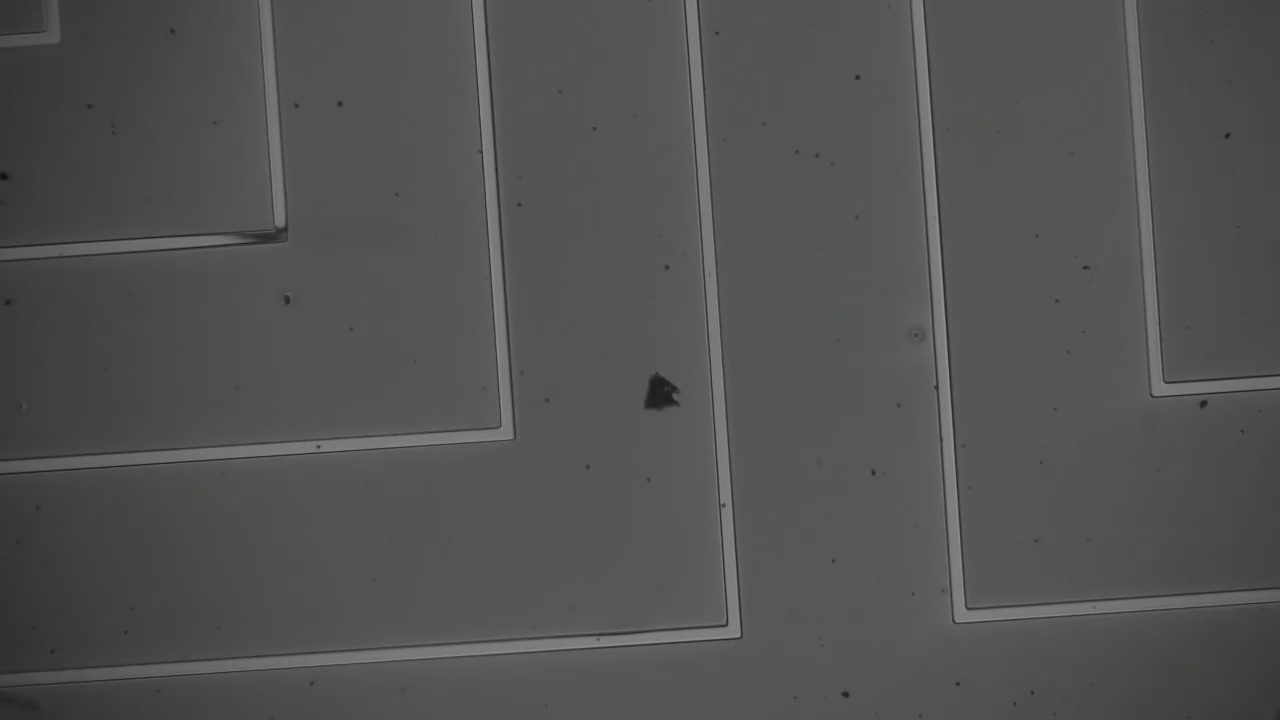gray_line: (210, 216, 300, 263)
